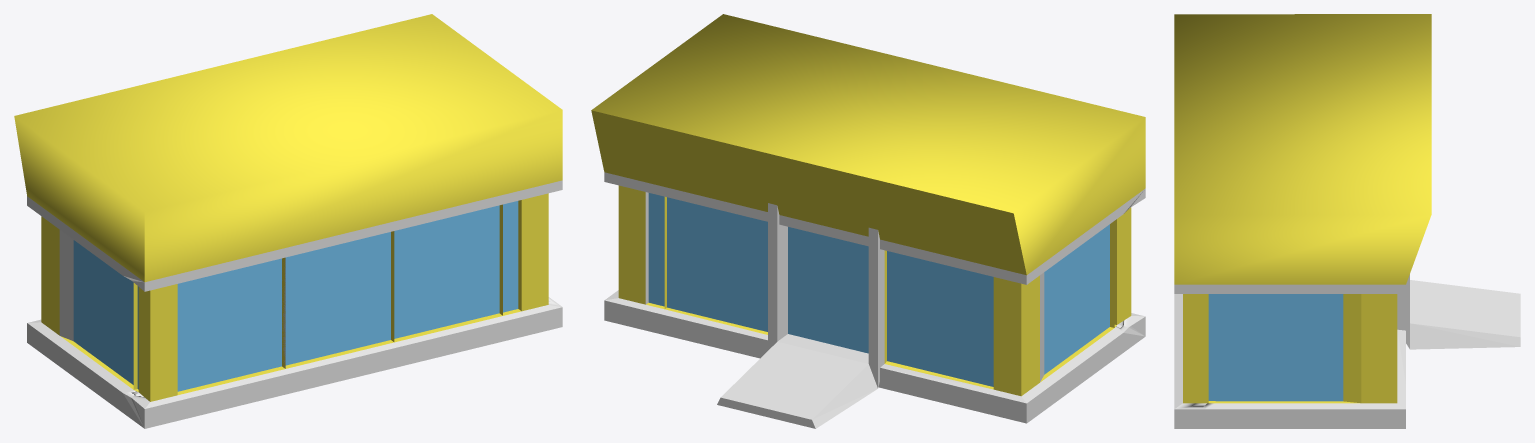
Rendered from Shop4x2x2Yellow.fbx.
3 renders of one model, left to right at view 1: azimuth 30°, elevation 25°; view 2: azimuth 150°, elevation 25°; view 3: azimuth 270°, elevation 25°, orthographic. The views are drawn at different scales.
Visible parts, largest first — view 1: Shop.002; view 2: Shop.002; view 3: Shop.002.
Part boxes in pixels (x1,y1,x2,y2): Shop.002: [14, 14, 562, 428]; Shop.002: [591, 14, 1145, 428]; Shop.002: [1174, 14, 1520, 428].
Bounding box in the file's own units: 3.99 × 1.98 × 2.91.
Materials: 1 (1 with a texture image).
